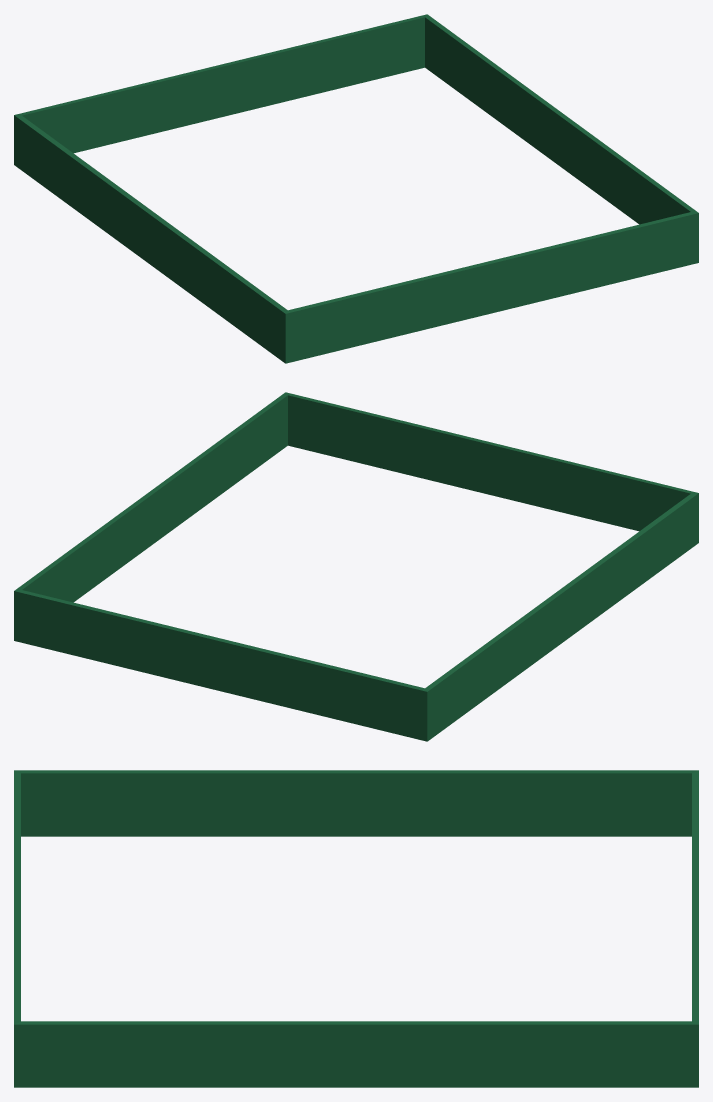
The model's file is Walls.dae.
The picture shows the model from 3 angles, top to bottom: view 1: azimuth 30°, elevation 25°; view 2: azimuth 150°, elevation 25°; view 3: azimuth 270°, elevation 25°; orthographic projection. The views are drawn at different scales.
Visible parts, largest first — view 1: Walls; view 2: Walls; view 3: Walls.
Boxes of the visible parts, box(x1,y1,x2,y2) form: Walls: box(14, 14, 698, 363); Walls: box(14, 392, 698, 741); Walls: box(14, 770, 698, 1087).
Bounding box in the file's own units: 2.87 × 3.27 × 0.3343.
